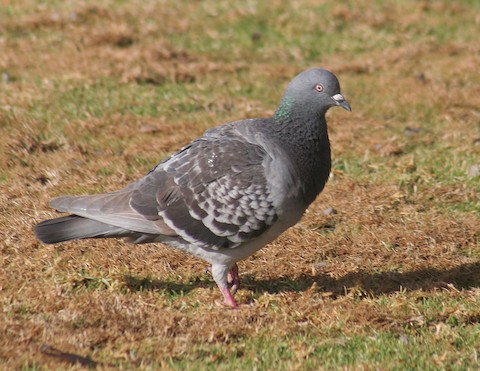pigeon: (32, 62, 356, 310)
